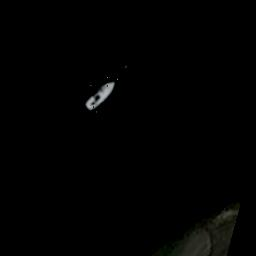boat: (80, 72, 118, 118)
